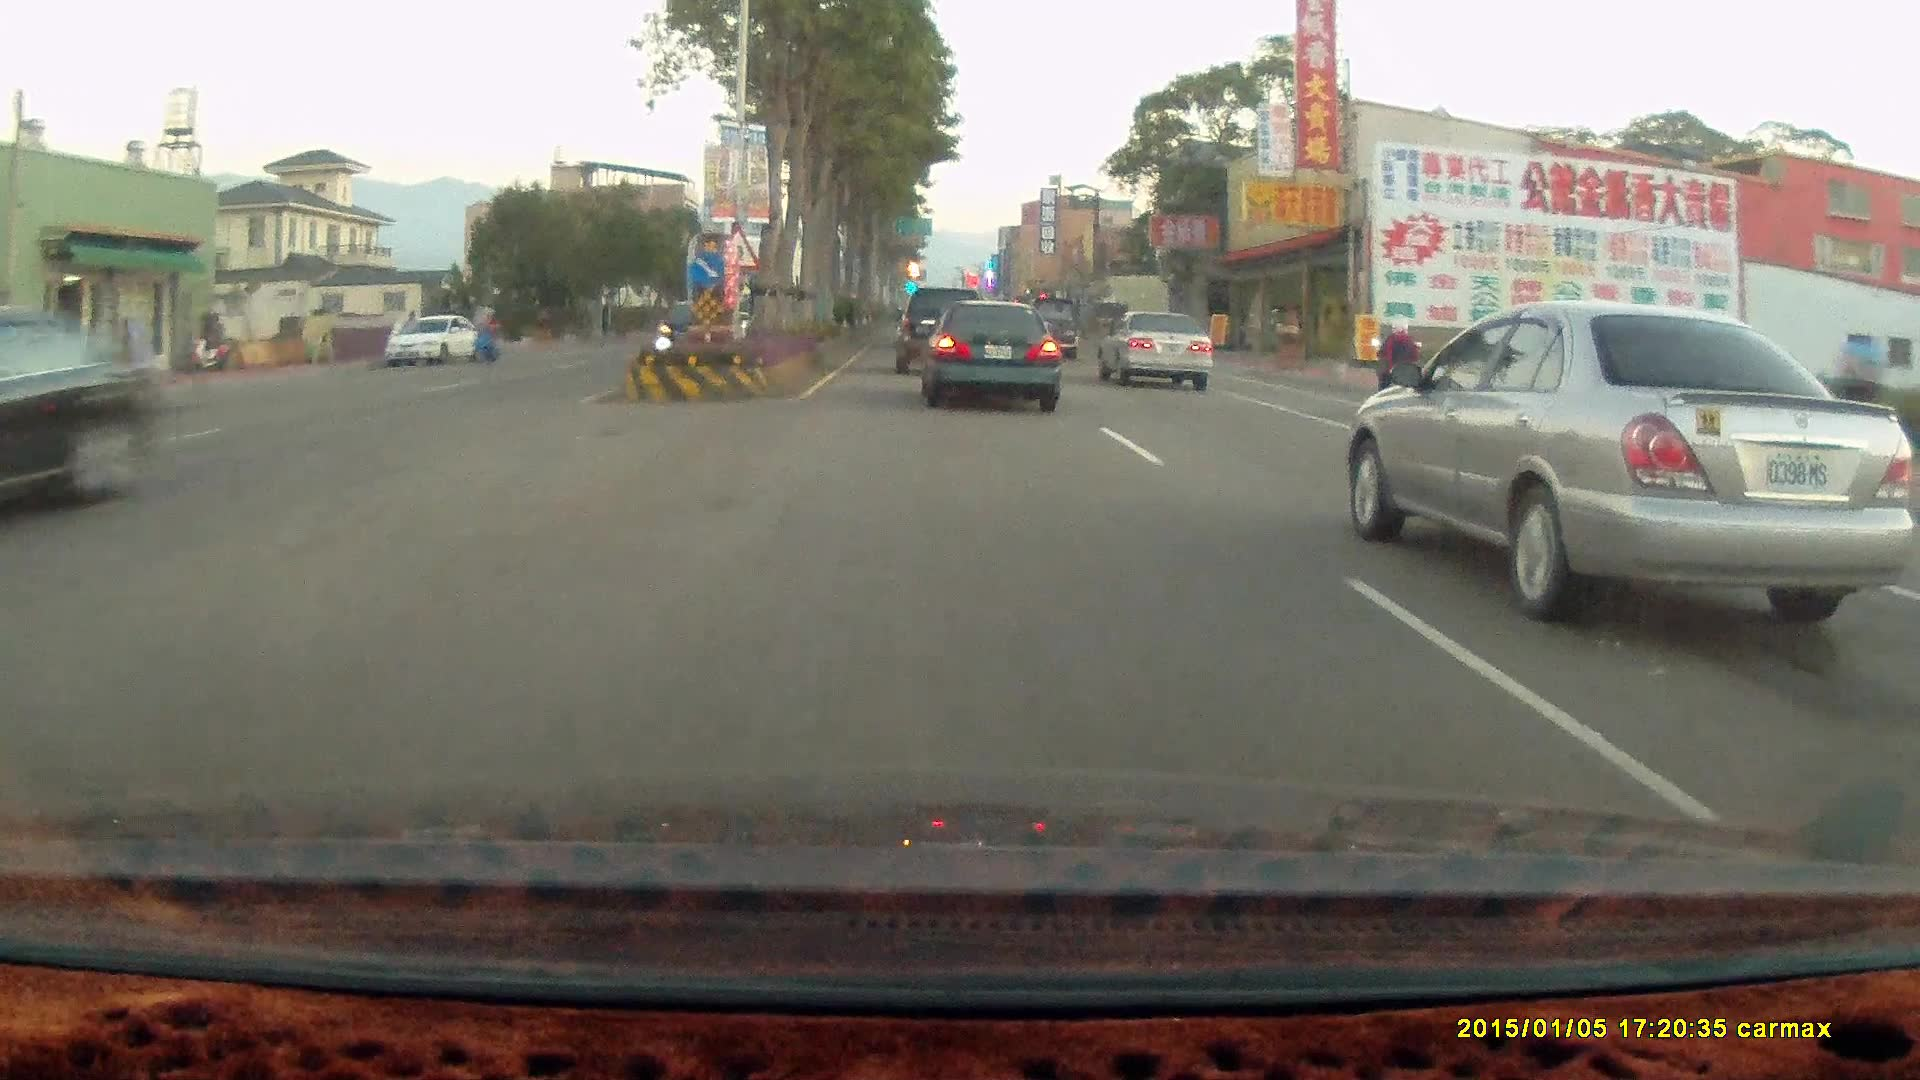rider: (1366, 309, 1431, 420), (1365, 307, 1416, 413), (468, 296, 501, 361)
vehicle: (1353, 288, 1920, 618), (1, 302, 166, 531), (1, 302, 165, 530), (918, 297, 1062, 415), (915, 297, 1059, 410), (1097, 308, 1217, 391), (1093, 307, 1211, 389), (892, 286, 989, 378), (893, 282, 983, 370), (382, 313, 483, 368), (384, 315, 478, 371), (655, 299, 739, 361), (655, 298, 735, 360), (1012, 292, 1078, 358)
